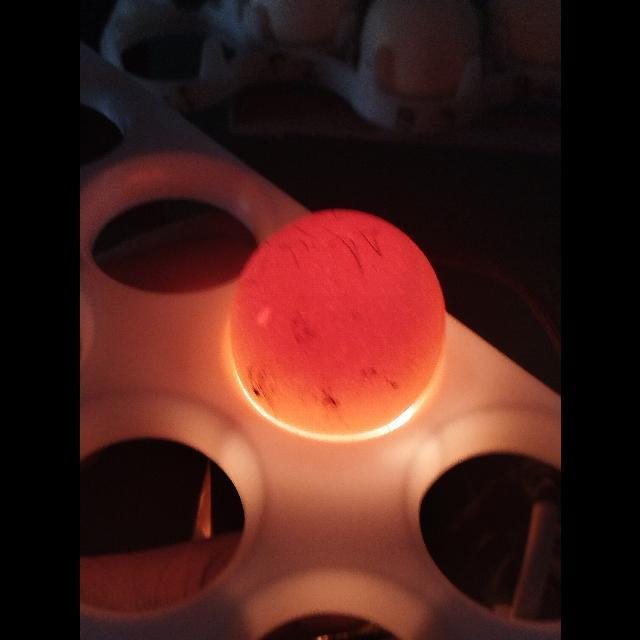Infertile: (232, 209, 456, 425)
